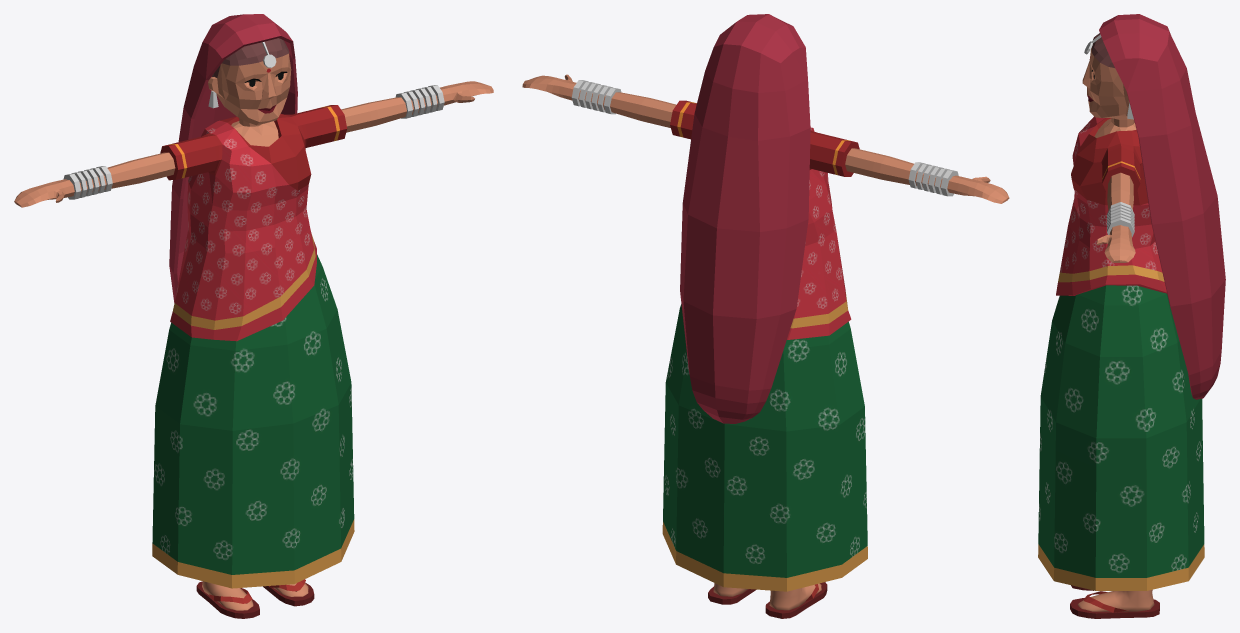
The model's file is delh_char_01.fbx.
3 views of the same model, side by side, from view 1: azimuth 30°, elevation 25°; view 2: azimuth 150°, elevation 25°; view 3: azimuth 270°, elevation 25° (orthographic).
Visible parts, largest first — view 1: delh_char_01; view 2: delh_char_01; view 3: delh_char_01.
Boxes of the visible parts, box(x1,y1,x2,y2) form: delh_char_01: box(14, 14, 493, 618); delh_char_01: box(522, 14, 1009, 618); delh_char_01: box(1038, 14, 1225, 618).
Bounding box in the file's own units: 154 × 177 × 52.26.
